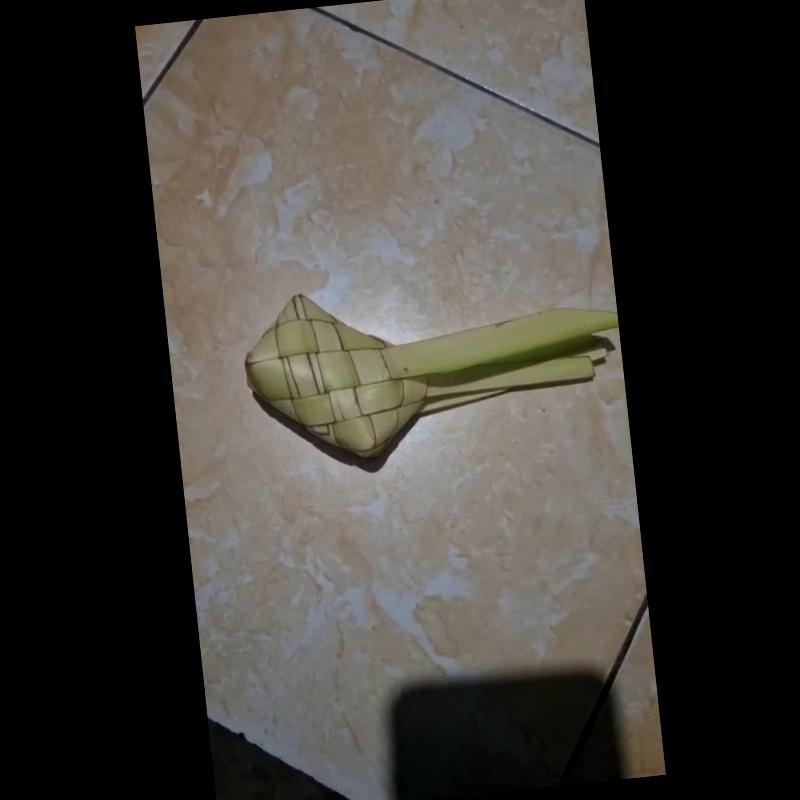Tipat Bantal: (231, 289, 619, 479)
